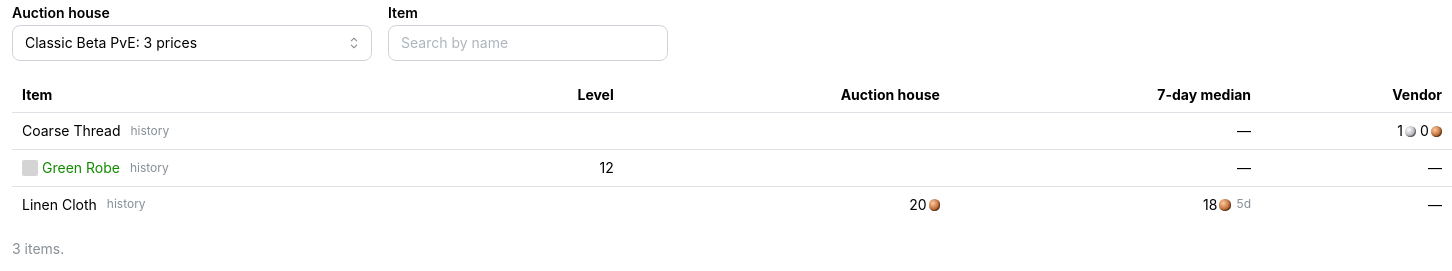
Test: PricesTab › lists the selection's auction house prices and searches by name
This screenshot has width=1452, height=271.
expect the text "Linen Cloth" is shown: met, box [22,194,97,216]
expect the dropdown labelled "Auction house" holds "Classic Beta PvE: 3 prices": met, box [12,25,372,61]
Type "robe" into the field labelled "Item" at [528, 43], box [388,25,668,61]
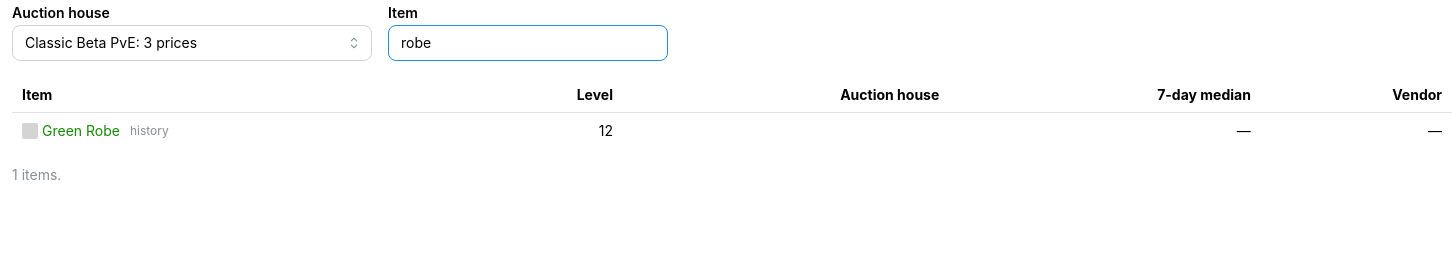
expect the text "Green Robe" is shown: met, box [42,120,120,142]
expect the text "Linen Cloth" is gone: met
expect the text "1 items." is shown: met, box [12,166,61,183]
